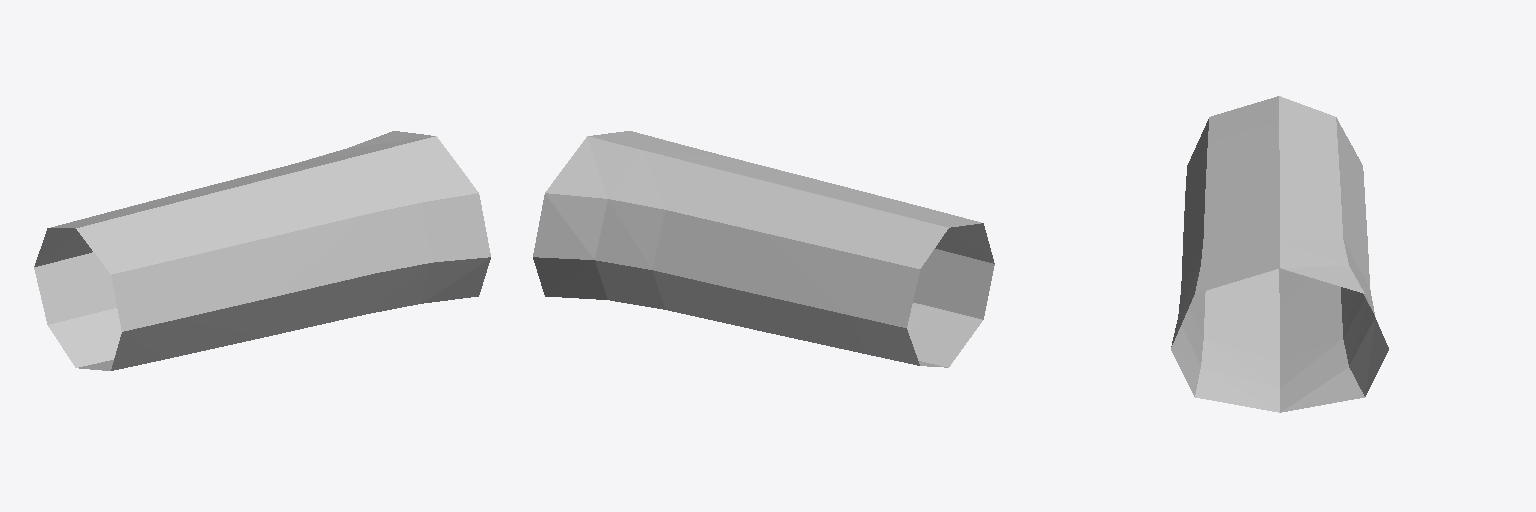
The model's file is low_arms_R.obj.
The picture shows the model from 3 angles: view 1: azimuth 30°, elevation 25°; view 2: azimuth 150°, elevation 25°; view 3: azimuth 270°, elevation 25°; orthographic projection.
Parts seen in each view (by area): view 1: Meowth.001; view 2: Meowth.001; view 3: Meowth.001.
Part boxes in pixels (bbox=[...]): Meowth.001: bbox=[34, 131, 490, 370]; Meowth.001: bbox=[533, 131, 994, 367]; Meowth.001: bbox=[1171, 96, 1388, 412].
Bounding box in the file's own units: 7.11 × 2.85 × 3.73.